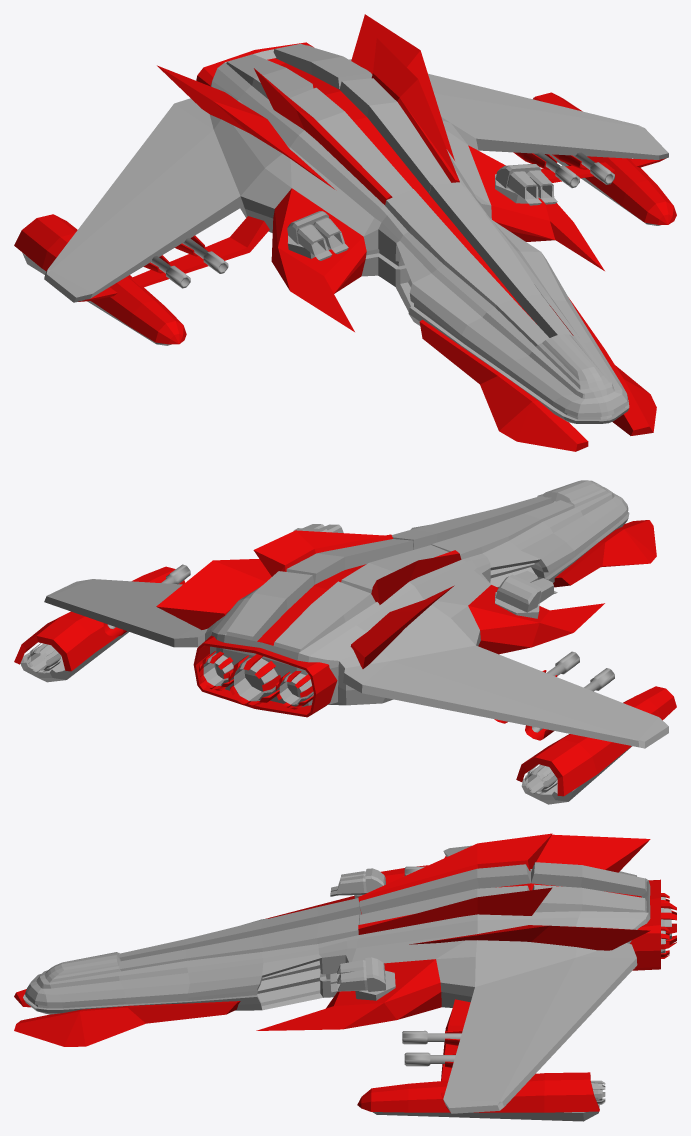
The model's file is Genyx4.fbx.
The picture shows the model from 3 angles, top to bottom: view 1: azimuth 30°, elevation 25°; view 2: azimuth 150°, elevation 25°; view 3: azimuth 270°, elevation 25°; orthographic projection. The views are drawn at different scales.
Visible parts, largest first — view 1: Genyx4_diffuse, Genyx4_color; view 2: Genyx4_diffuse, Genyx4_color; view 3: Genyx4_diffuse, Genyx4_color.
Boxes of the visible parts, x1=… form: Genyx4_diffuse: x1=22, y1=44, x2=668, y2=423; Genyx4_color: x1=14, y1=14, x2=676, y2=451; Genyx4_diffuse: x1=20, y1=480, x2=668, y2=804; Genyx4_color: x1=14, y1=520, x2=676, y2=796; Genyx4_diffuse: x1=23, y1=845, x2=671, y2=1121; Genyx4_color: x1=14, y1=833, x2=676, y2=1112.
Bounding box in the file's own units: 10.31 × 2.92 × 10.95.
